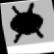not correct: (4, 0, 49, 44)
